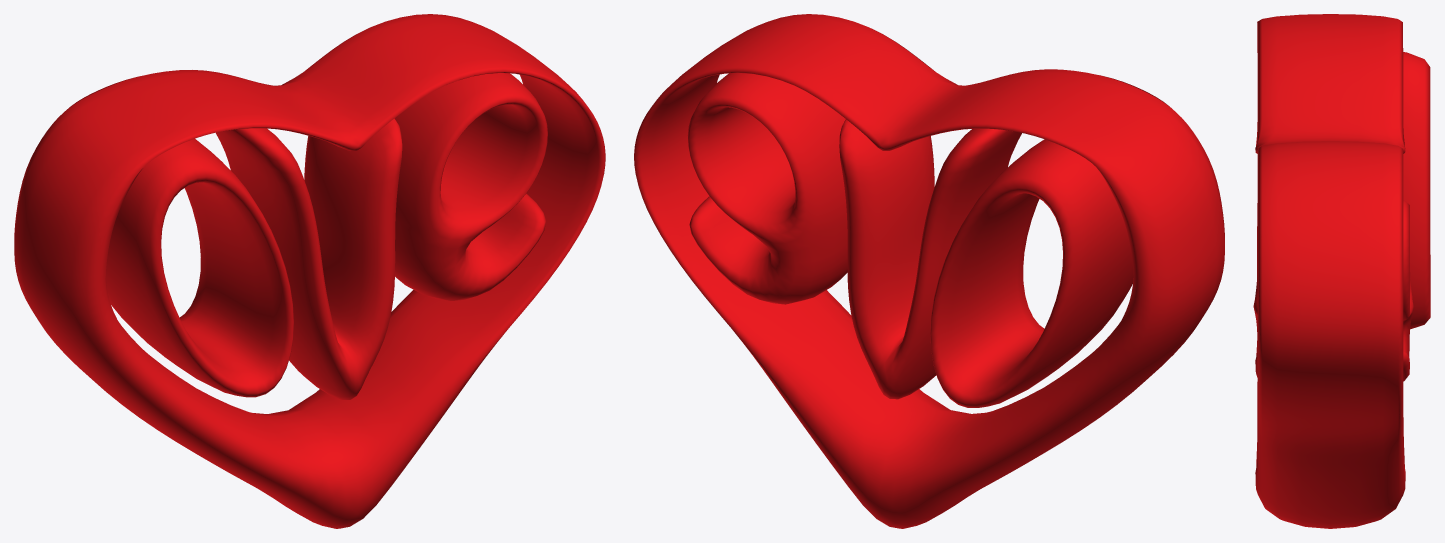
The model's file is love.glb.
3 views of the same model, side by side, from view 1: azimuth 30°, elevation 25°; view 2: azimuth 150°, elevation 25°; view 3: azimuth 270°, elevation 25° (orthographic). The views are drawn at different scales.
Visible parts, largest first — view 1: Plane_1, Circle_2, Plane.001_4, Circle.001_3; view 2: Plane_1, Circle_2, Circle.001_3, Plane.001_4; view 3: Plane_1, Circle_2, Circle.001_3.
Boxes of the visible parts, <box> form: Plane_1: <box>14,14,605,528</box>; Circle_2: <box>105,138,293,397</box>; Plane.001_4: <box>216,118,402,399</box>; Circle.001_3: <box>394,73,547,300</box>; Plane_1: <box>634,14,1224,528</box>; Circle_2: <box>930,139,1133,407</box>; Circle.001_3: <box>687,73,847,304</box>; Plane.001_4: <box>839,119,1021,399</box>; Plane_1: <box>1255,14,1405,528</box>; Circle_2: <box>1403,52,1430,329</box>; Circle.001_3: <box>1253,200,1413,381</box>.
Size of the model in its own units: 4.11 by 3.31 by 1.25.
